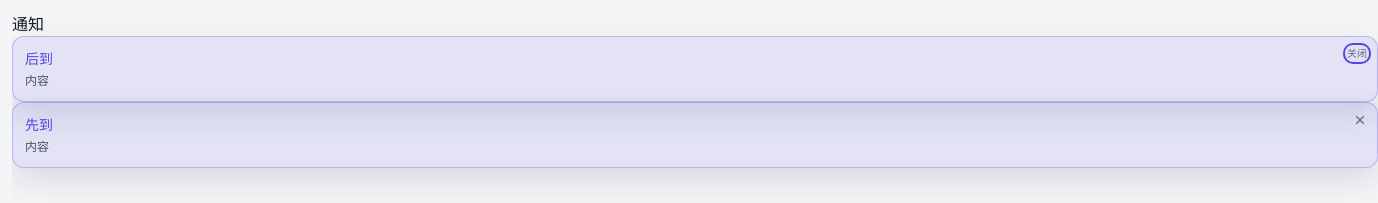
Scenario: useNotifications toast dismiss focus › moves focus to the next close button when a newer toast is dismissed
What coordinates should you click on to do the following:
click the button "关闭"
I would click on:
 (1357, 53)
Its box is x1=1345 y1=45 x2=1369 y2=62.
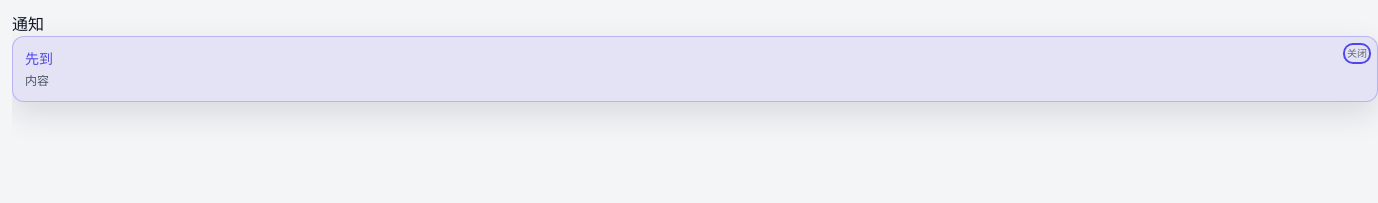
Expected: the text "先到" is shown, x1=25 y1=50 x2=53 y2=67
Expected: the button "后到" is gone
